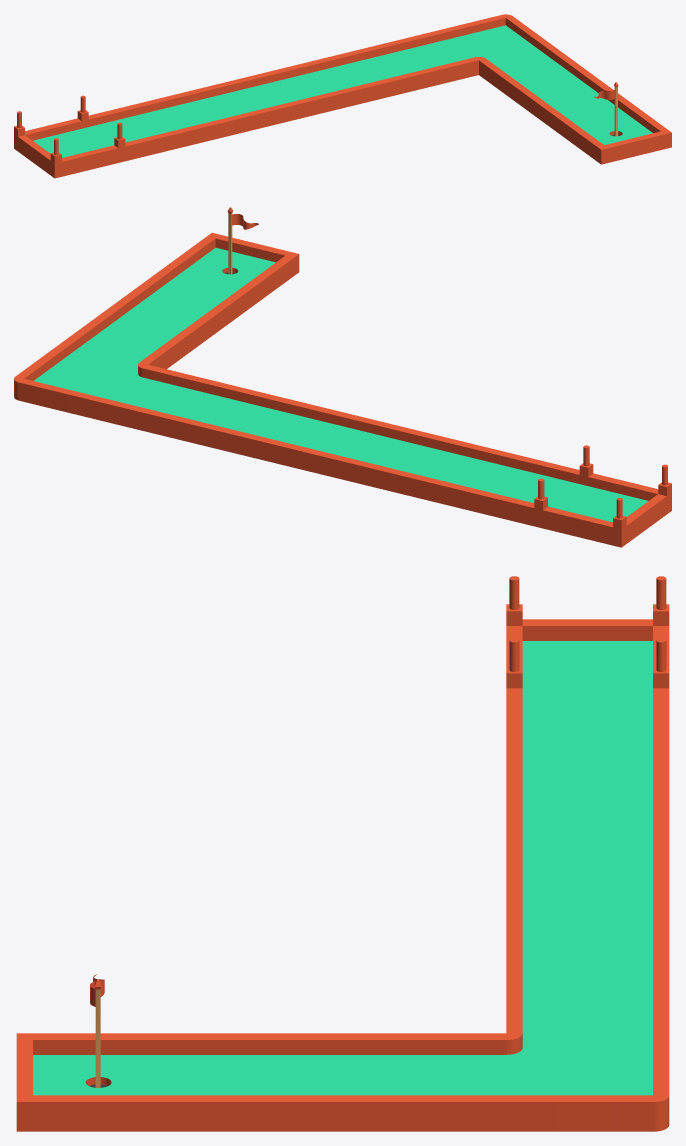
Rendered from Golf Course Hole 1.model.fbx.
3 renders of one model, top to bottom at view 1: azimuth 30°, elevation 25°; view 2: azimuth 150°, elevation 25°; view 3: azimuth 270°, elevation 25°, orthographic. The views are drawn at different scales.
Parts seen in each view (by area): view 1: straight_13, straight_14, end_hole_3, end_15, corner_square_12, supports_17, flag_19; view 2: straight_13, straight_14, end_15, end_hole_3, corner_square_12, supports_17, flag_19; view 3: straight_13, straight_14, end_hole_3, corner_square_12, end_15, supports_17, flag_19.
Boxes of the visible parts, <box> form: straight_13: <box>88,30,478,161</box>; straight_14: <box>479,43,630,134</box>; end_hole_3: <box>560,103,671,164</box>; end_15: <box>14,118,125,178</box>; corner_square_12: <box>438,14,548,63</box>; supports_17: <box>14,95,125,170</box>; flag_19: <box>594,82,618,136</box>; straight_13: <box>97,364,579,526</box>; straight_14: <box>61,269,248,371</box>; end_15: <box>534,473,671,547</box>; end_hole_3: <box>162,232,299,308</box>; corner_square_12: <box>14,343,147,419</box>; supports_17: <box>534,445,671,537</box>; flag_19: <box>227,207,258,274</box>; straight_13: <box>506,688,669,1047</box>; straight_14: <box>179,1033,506,1131</box>; end_hole_3: <box>16,1033,179,1131</box>; corner_square_12: <box>506,1033,669,1131</box>; end_15: <box>506,619,669,702</box>; supports_17: <box>506,576,669,688</box>; flag_19: <box>90,974,104,1087</box>.
Size of the model in its own units: 70 by 7.92 by 40.
